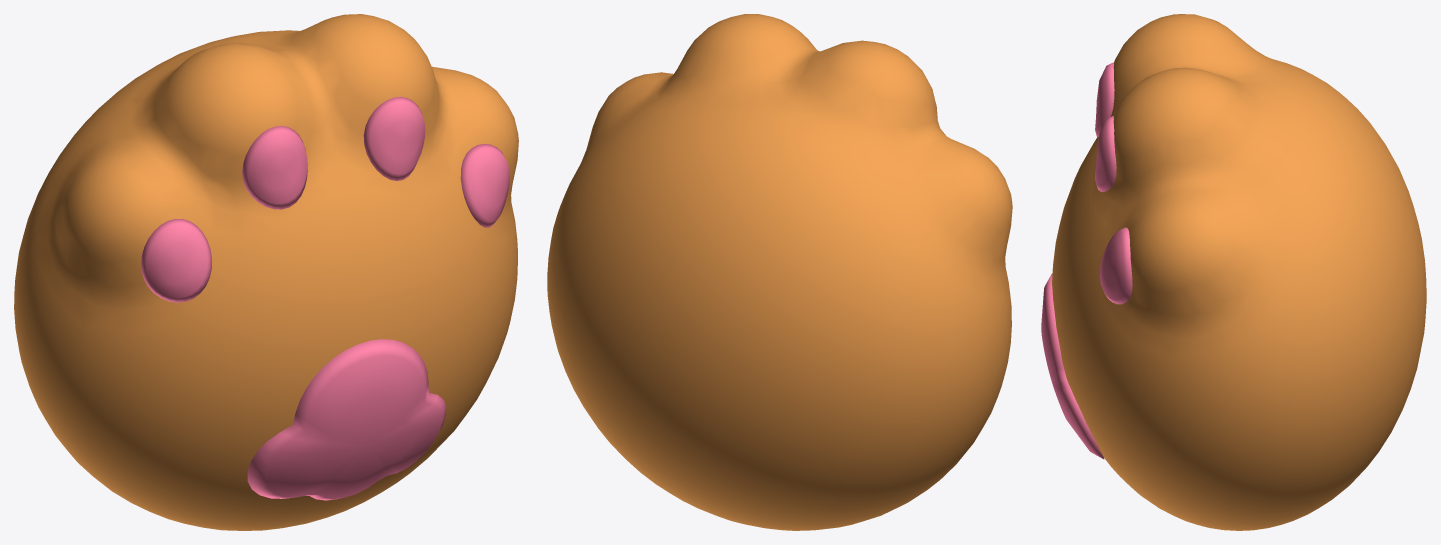
The model's file is cat-paws.glb.
3 renders of one model, left to right at view 1: azimuth 30°, elevation 25°; view 2: azimuth 150°, elevation 25°; view 3: azimuth 270°, elevation 25°, orthographic. The views are drawn at different scales.
Parts seen in each view (by area): view 1: cat_paws, cat_paws_beans; view 2: cat_paws; view 3: cat_paws, cat_paws_beans.
Part boxes in pixels (bbox=[...]): cat_paws: bbox=[14, 14, 518, 530]; cat_paws_beans: bbox=[141, 96, 510, 500]; cat_paws: bbox=[547, 14, 1012, 530]; cat_paws: bbox=[1052, 14, 1426, 530]; cat_paws_beans: bbox=[1041, 62, 1132, 459].
Bounding box in the file's own units: 0.5363 × 0.554 × 0.4215.
